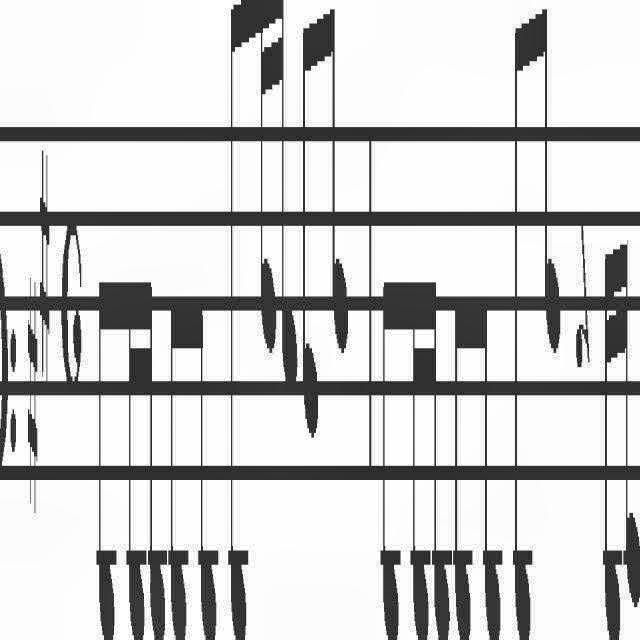Diez: (28, 272, 40, 516), (39, 146, 50, 388)
Eighth-note: (228, 0, 248, 640), (512, 14, 532, 640), (189, 287, 218, 640), (532, 2, 560, 366), (320, 0, 348, 358), (475, 282, 501, 640), (381, 268, 403, 640), (301, 9, 319, 452), (98, 272, 119, 640), (453, 287, 474, 640), (169, 287, 187, 640)
Eighth-rest: (574, 218, 590, 374)
Sixteenth-note: (428, 268, 452, 640), (602, 235, 622, 640), (407, 272, 429, 640), (278, 0, 298, 400), (145, 278, 167, 640), (254, 0, 276, 358), (125, 272, 146, 640), (620, 231, 640, 617)
